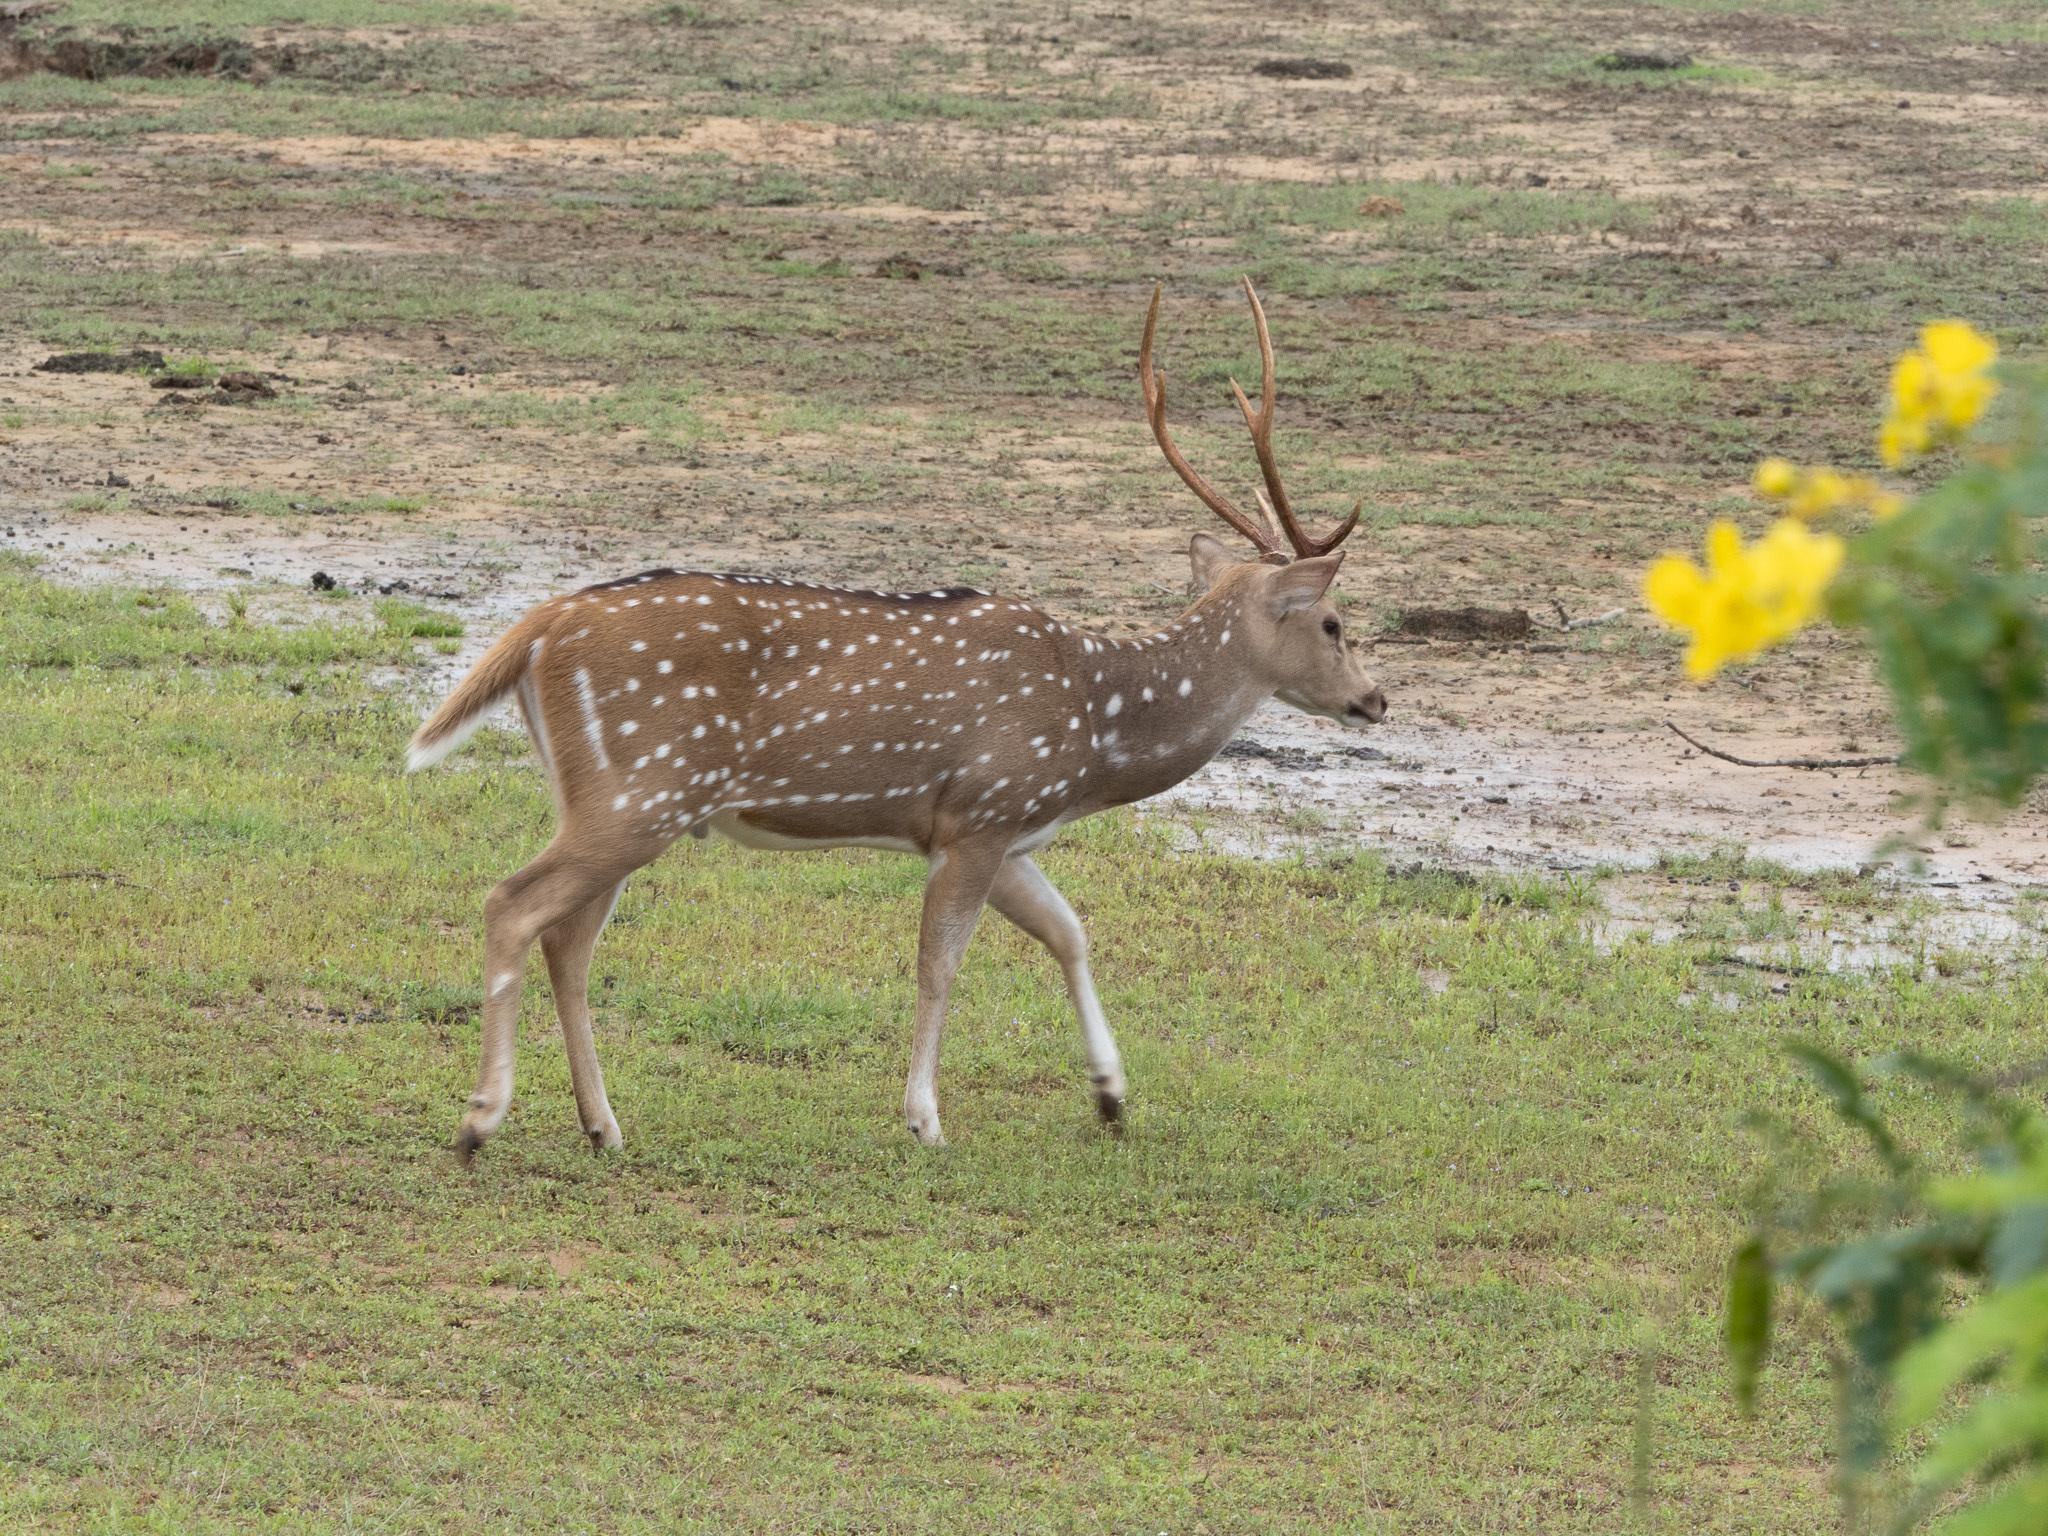Deer: (408, 279, 1387, 1154)
